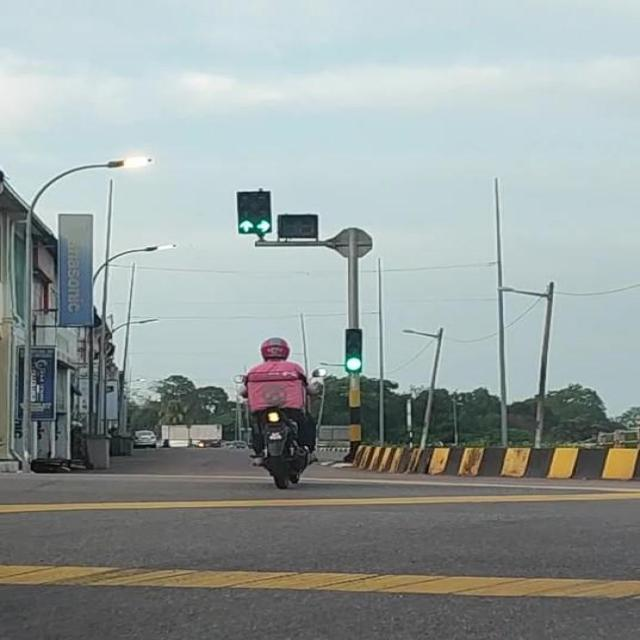green_light: (344, 326, 362, 372), (234, 188, 252, 234), (252, 190, 270, 232)
